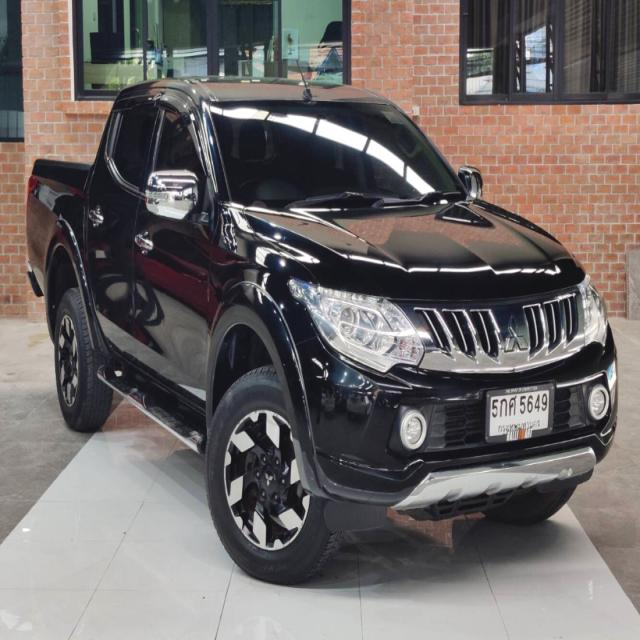license_plate: (482, 383, 557, 445)
